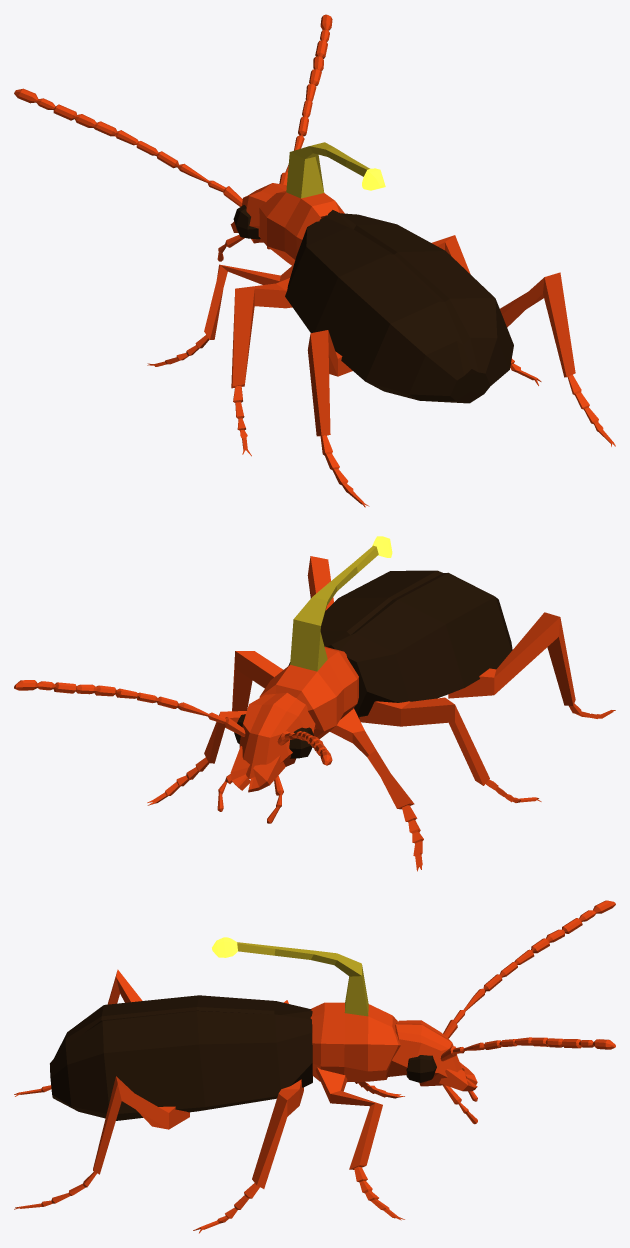
The model's file is Beetle IL1 working copy.fbx.
The picture shows the model from 3 angles, top to bottom: view 1: azimuth 30°, elevation 25°; view 2: azimuth 150°, elevation 25°; view 3: azimuth 270°, elevation 25°; orthographic projection. The views are drawn at different scales.
Visible parts, largest first — view 1: Circle.003, Cube.001, Circle.002, Circle, Cube, head; view 2: Circle.003, Cube.001, Circle.002, head, Cube, Circle, jaws, lft. eye; view 3: Circle.003, Circle.002, Cube.001, Circle, Cube, head, rt. eye, jaws.
Boxes of the visible parts, x1,y1,x2,y2 form: Circle.003: [285, 210, 513, 403]; Cube.001: [231, 235, 615, 507]; Circle.002: [259, 142, 385, 265]; Circle: [14, 14, 332, 261]; Cube: [147, 264, 293, 366]; head: [242, 183, 286, 243]; Circle.003: [288, 570, 512, 718]; Cube.001: [232, 556, 615, 802]; Circle.002: [259, 536, 392, 738]; head: [239, 692, 315, 778]; Cube: [147, 708, 423, 871]; Circle: [14, 680, 332, 823]; jaws: [230, 746, 285, 792]; lft. eye: [289, 727, 313, 758]; Circle.003: [50, 995, 312, 1120]; Circle.002: [212, 937, 400, 1081]; Cube.001: [14, 969, 303, 1233]; Circle: [440, 900, 615, 1124]; Cube: [315, 1067, 404, 1220]; head: [385, 1020, 462, 1086]; rt. eye: [406, 1055, 436, 1082]; jaws: [439, 1062, 477, 1091].
Size of the model in its own units: 199 by 145 by 352.
